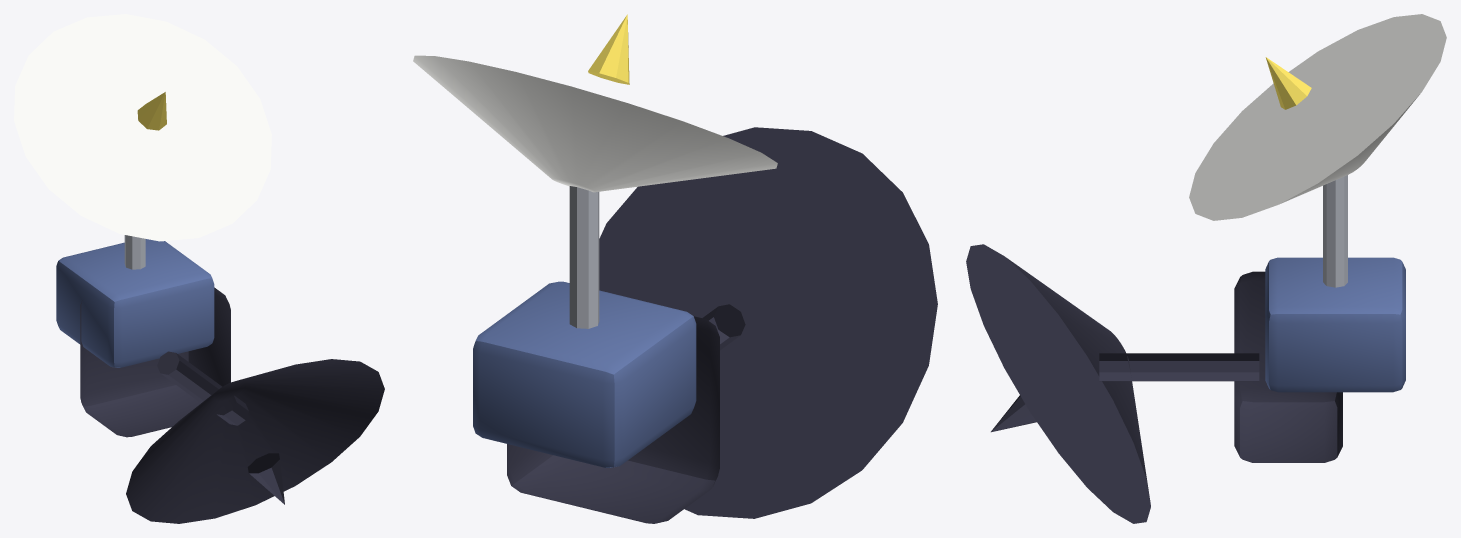
Rendered from Pieza_Comunicaciones.fbx.
The picture shows the model from 3 angles, left to right: view 1: azimuth 30°, elevation 25°; view 2: azimuth 150°, elevation 25°; view 3: azimuth 270°, elevation 25°; orthographic projection. The views are drawn at different scales.
Visible parts, largest first — view 1: Com_Plato, Com_Plato_Contorno, Com_Base, Com_Base_Contorno, Com_Mastil_Contorno, Com_Emisor_Contorno, Com_Emisor, Com_Mastil; view 2: Com_Plato_Contorno, Com_Base, Com_Plato, Com_Base_Contorno, Com_Mastil, Com_Emisor, Com_Mastil_Contorno; view 3: Com_Plato, Com_Plato_Contorno, Com_Base, Com_Base_Contorno, Com_Mastil_Contorno, Com_Mastil, Com_Emisor, Com_Emisor_Contorno.
Part boxes in pixels (x1,y1,x2,y2): Com_Plato: [14, 14, 271, 241]; Com_Plato_Contorno: [126, 359, 384, 523]; Com_Base: [56, 239, 214, 367]; Com_Base_Contorno: [80, 287, 230, 437]; Com_Mastil_Contorno: [157, 351, 248, 425]; Com_Emisor_Contorno: [247, 453, 284, 504]; Com_Emisor: [137, 92, 166, 130]; Com_Mastil: [124, 235, 145, 269]; Com_Plato_Contorno: [599, 127, 937, 518]; Com_Base: [473, 281, 696, 467]; Com_Plato: [413, 55, 777, 192]; Com_Base_Contorno: [507, 316, 719, 523]; Com_Mastil: [569, 186, 599, 328]; Com_Emisor: [588, 14, 629, 84]; Com_Mastil_Contorno: [702, 304, 745, 350]; Com_Plato: [1189, 14, 1446, 220]; Com_Plato_Contorno: [966, 244, 1150, 523]; Com_Base: [1265, 257, 1405, 392]; Com_Base_Contorno: [1234, 271, 1342, 462]; Com_Mastil_Contorno: [1099, 353, 1259, 381]; Com_Mastil: [1323, 175, 1347, 287]; Com_Emisor: [1265, 57, 1311, 109]; Com_Emisor_Contorno: [991, 395, 1036, 432].
Size of the model in its own units: 2.1 by 3.31 by 3.08.
